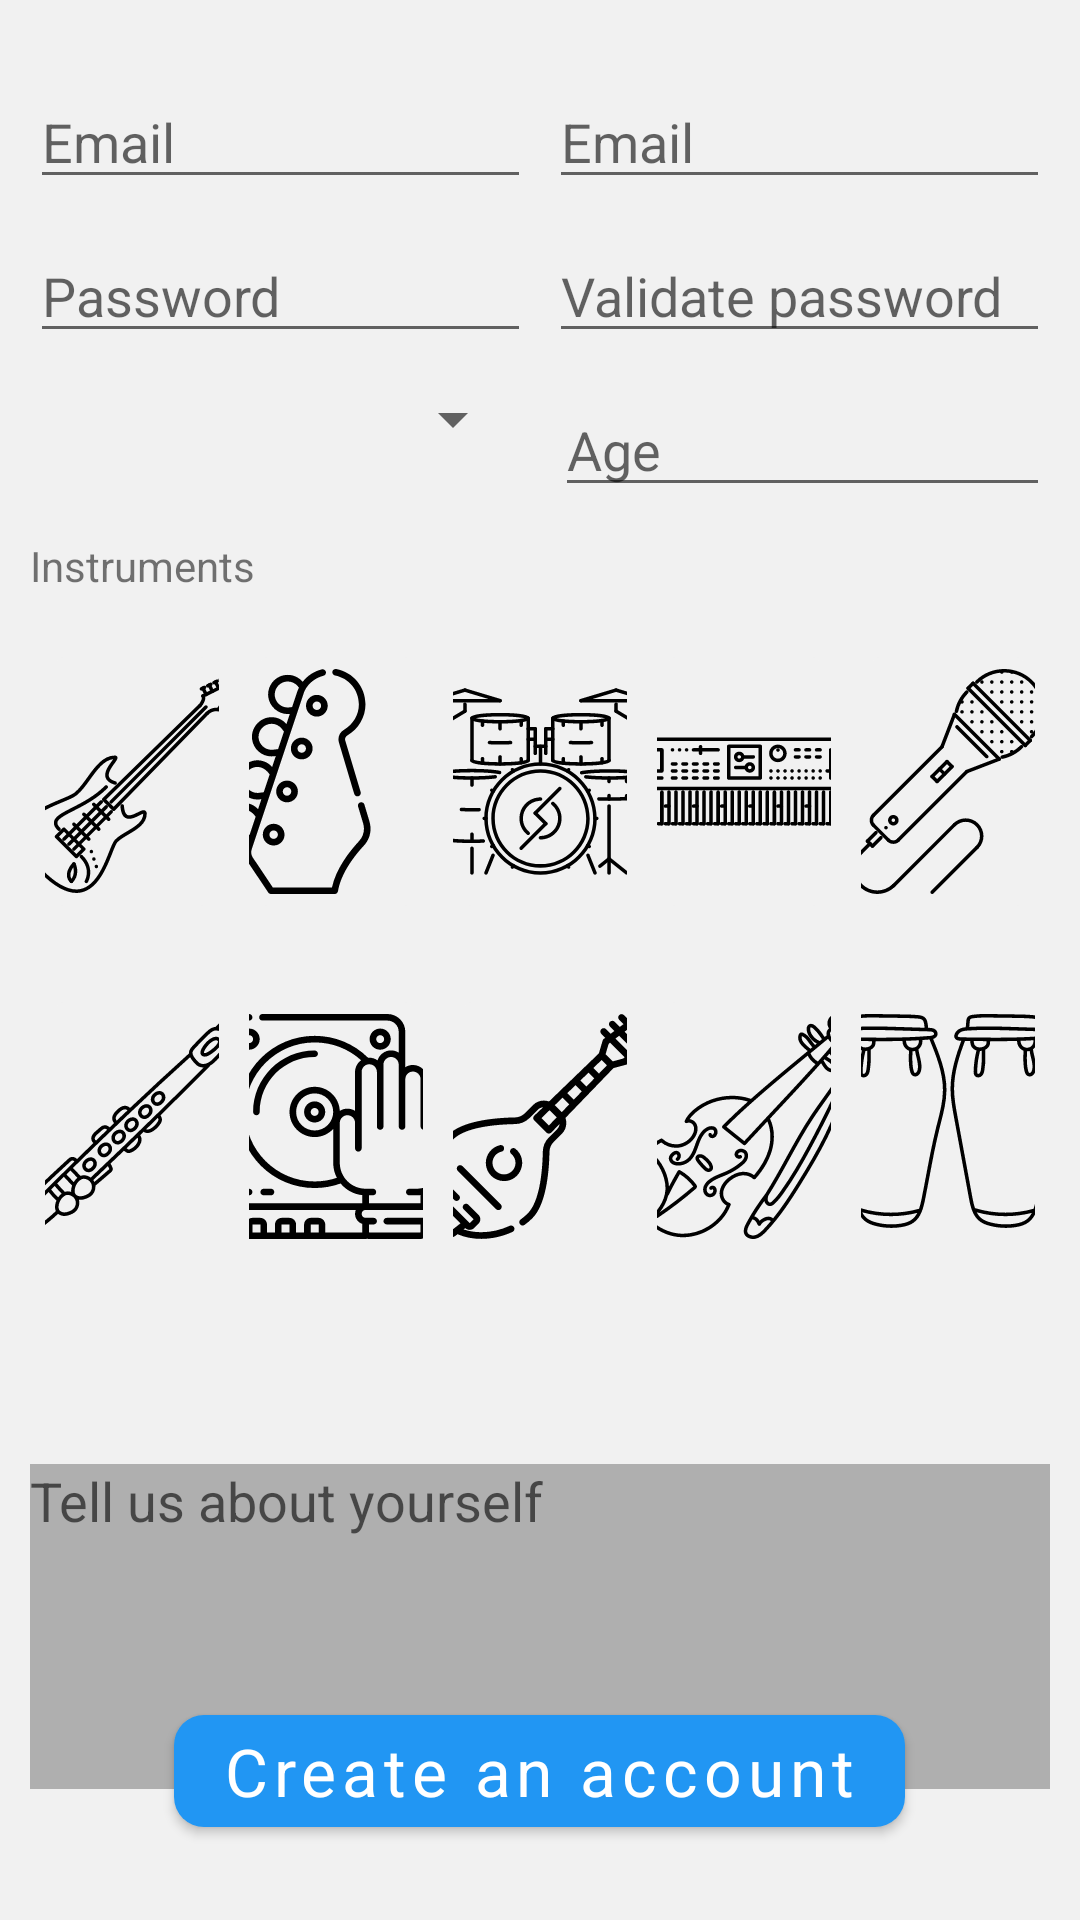

Icon bounding boxes for this 1080 x 1920 phone screenshot, format (x1, y1, x2, y2):
bass guitar: (249, 669, 371, 894)
dj: (249, 1014, 423, 1239)
drums: (453, 688, 627, 875)
electric guitar: (45, 678, 219, 893)
flute: (45, 1023, 219, 1225)
keyboard: (657, 737, 831, 826)
mandolin: (453, 1014, 627, 1239)
microphone: (861, 669, 1035, 894)
percussion: (861, 1014, 1035, 1228)
violin: (657, 1016, 831, 1239)
